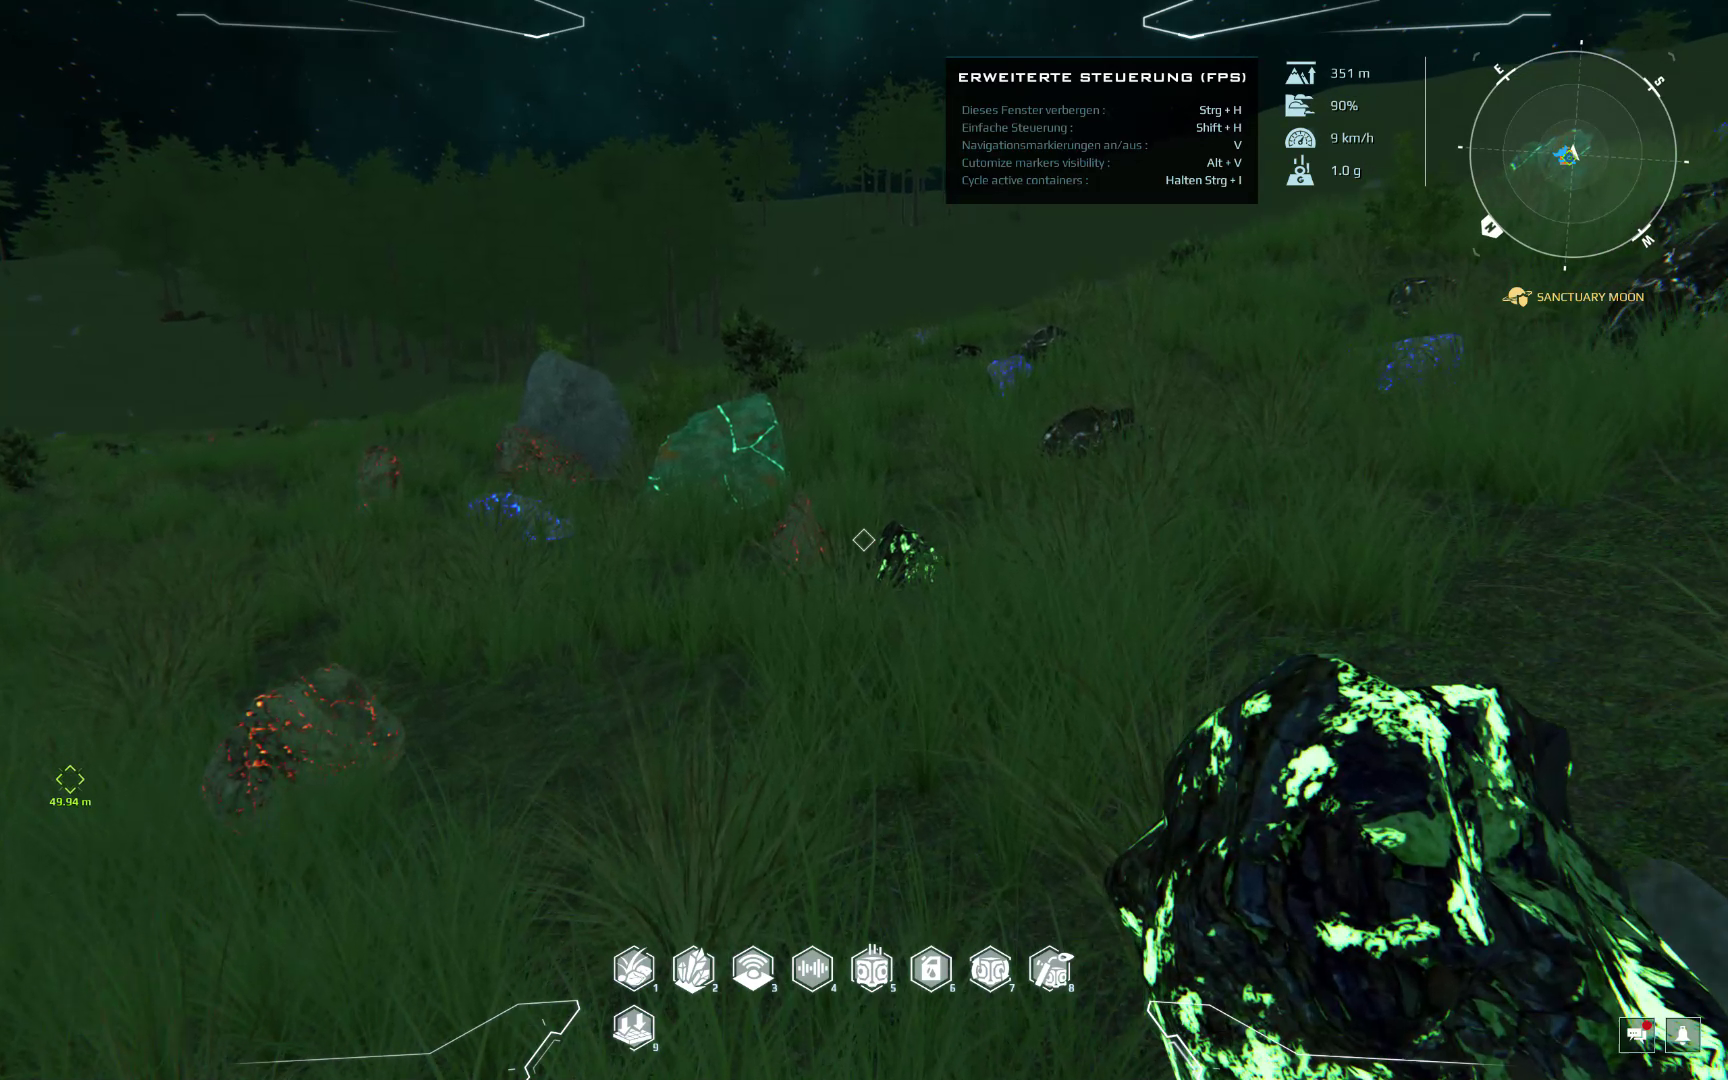Ore: (1100, 651, 1721, 1080), (192, 659, 406, 816), (639, 392, 792, 533), (1599, 210, 1728, 356), (488, 421, 597, 500), (1368, 328, 1467, 399), (768, 486, 842, 576), (1034, 401, 1140, 462), (464, 491, 575, 546), (350, 440, 406, 529), (871, 523, 942, 590), (1381, 274, 1464, 316), (982, 353, 1036, 399), (1018, 321, 1070, 362), (950, 341, 987, 360)
